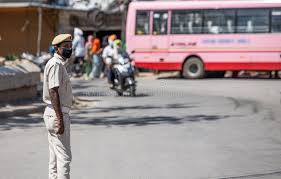mask: (55, 38, 72, 59), (111, 41, 122, 52)
